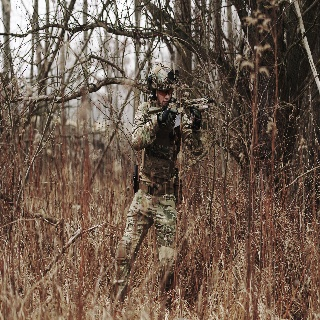rifle: (145, 94, 217, 130)
